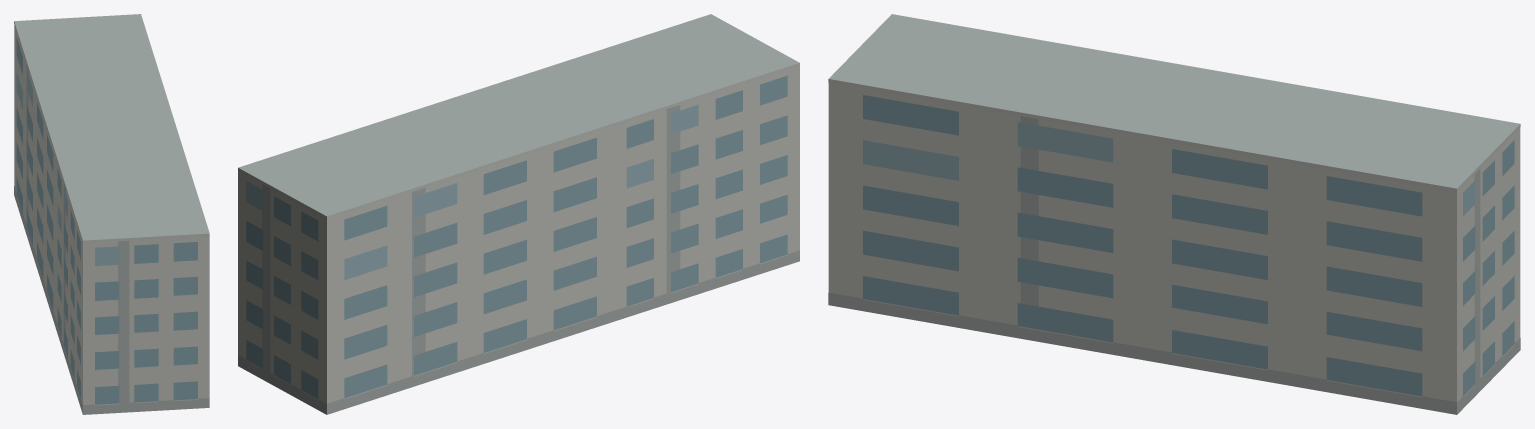
Rendered from residential-0a9952f5-ed71-4183-a2a4-543f69036543.glb.
The picture shows the model from 3 angles, left to right: view 1: azimuth 30°, elevation 25°; view 2: azimuth 150°, elevation 25°; view 3: azimuth 270°, elevation 25°; orthographic projection. The views are drawn at different scales.
Parts seen in each view (by area): view 1: residential-0a9952f5-ed71-4183-a2a4-543f69036543.tmp; view 2: residential-0a9952f5-ed71-4183-a2a4-543f69036543.tmp; view 3: residential-0a9952f5-ed71-4183-a2a4-543f69036543.tmp.
Part boxes in pixels (x1=…): residential-0a9952f5-ed71-4183-a2a4-543f69036543.tmp: x1=14, y1=14, x2=209, y2=414; residential-0a9952f5-ed71-4183-a2a4-543f69036543.tmp: x1=238, y1=14, x2=799, y2=414; residential-0a9952f5-ed71-4183-a2a4-543f69036543.tmp: x1=828, y1=14, x2=1520, y2=414.
Bounding box in the file's own units: 25.26 × 15.25 × 42.28.
